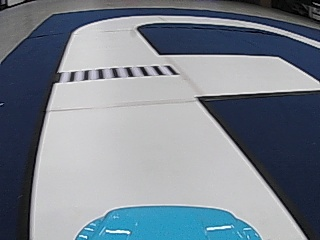CrossWalk: (61, 64, 176, 81)
